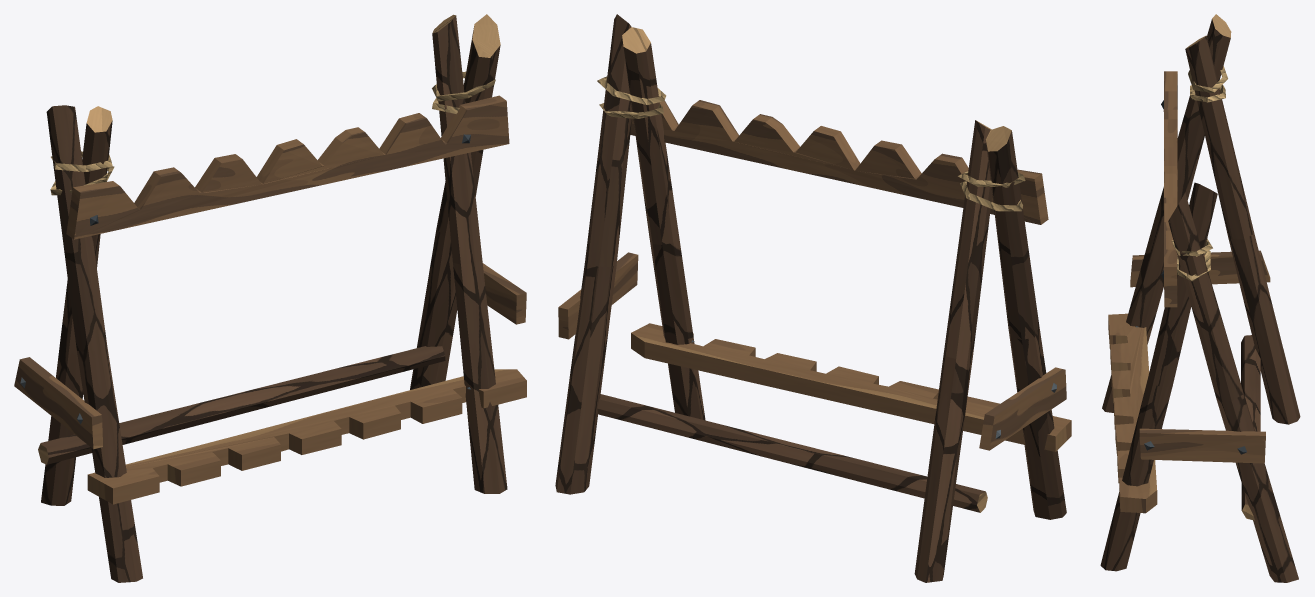
File: SM_WeaponRack.fbx
3 renders of one model, left to right at view 1: azimuth 30°, elevation 25°; view 2: azimuth 150°, elevation 25°; view 3: azimuth 270°, elevation 25°, orthographic. The views are drawn at different scales.
Parts seen in each view (by area): view 1: SM_WeaponRack; view 2: SM_WeaponRack; view 3: SM_WeaponRack.
Boxes of the visible parts, x1=… form: SM_WeaponRack: x1=14, y1=14, x2=526, y2=582; SM_WeaponRack: x1=555, y1=14, x2=1071, y2=582; SM_WeaponRack: x1=1100, y1=14, x2=1300, y2=582.
Bounding box in the file's own units: 1.6 × 1.5 × 0.6982.
